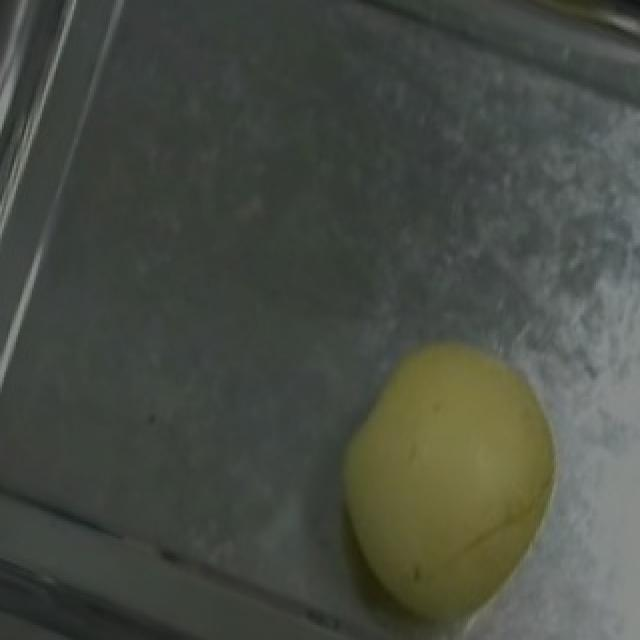Fruit: (296, 310, 594, 640)
